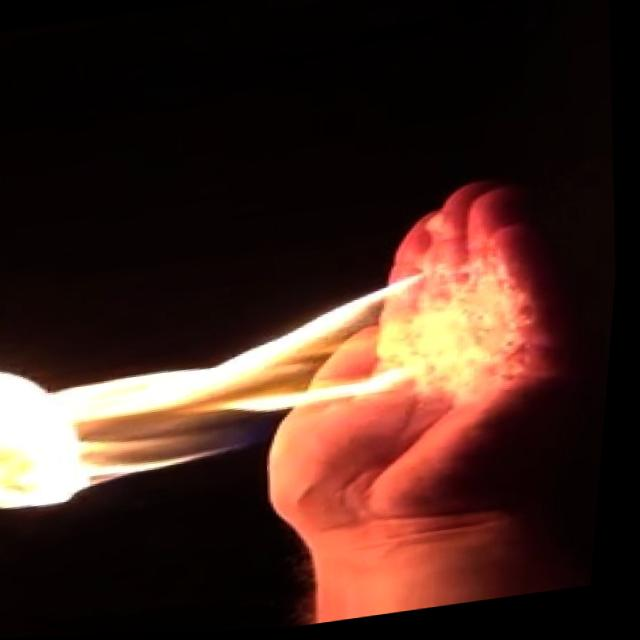helmet: (0, 258, 495, 519)
